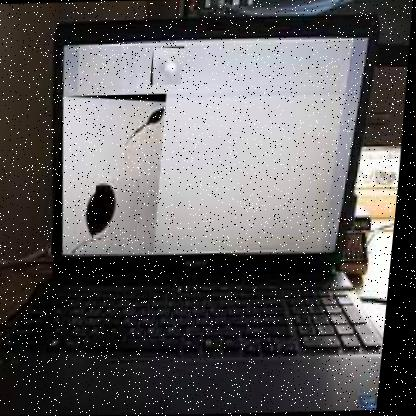crack: (53, 93, 172, 255)
spot: (95, 178, 146, 239), (61, 95, 114, 144), (151, 46, 187, 86)
